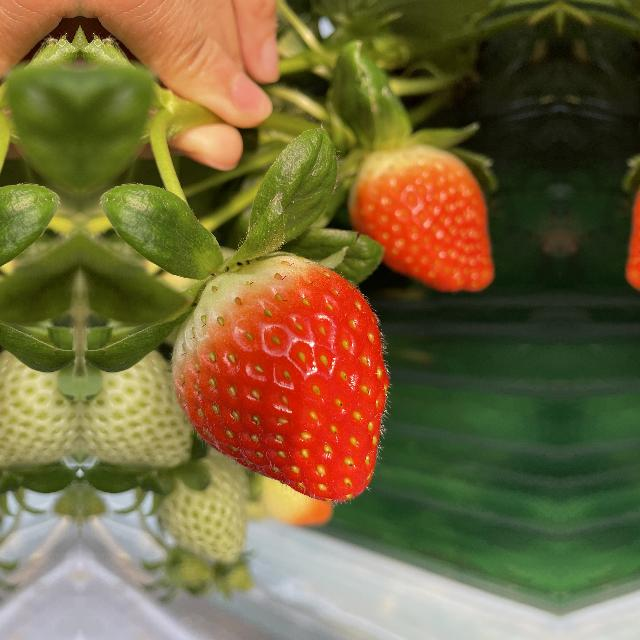Health_100: (165, 240, 399, 510), (348, 139, 500, 297)
Health_25: (81, 331, 191, 483), (144, 456, 262, 558), (0, 331, 79, 483)
